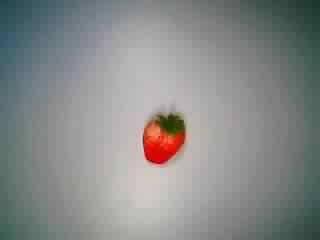strawberry: (124, 104, 192, 168)
